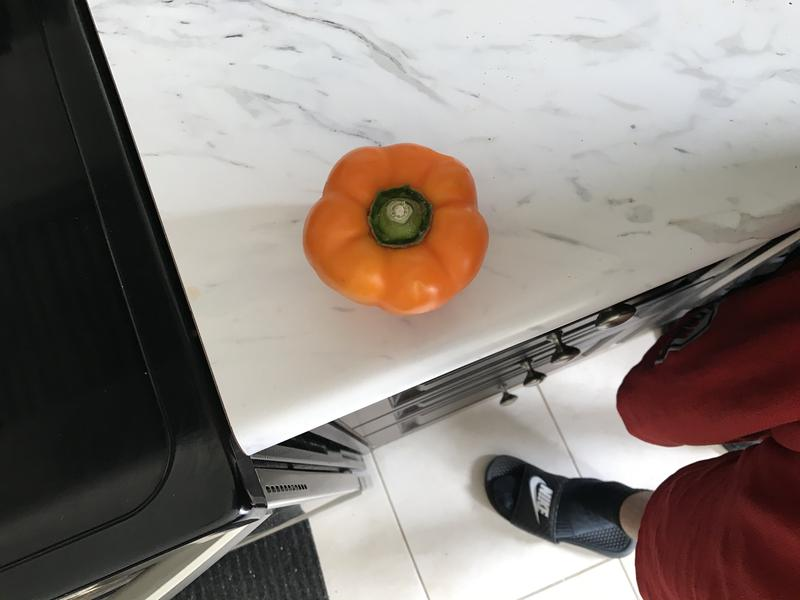orange_pepper: (298, 136, 492, 329)
